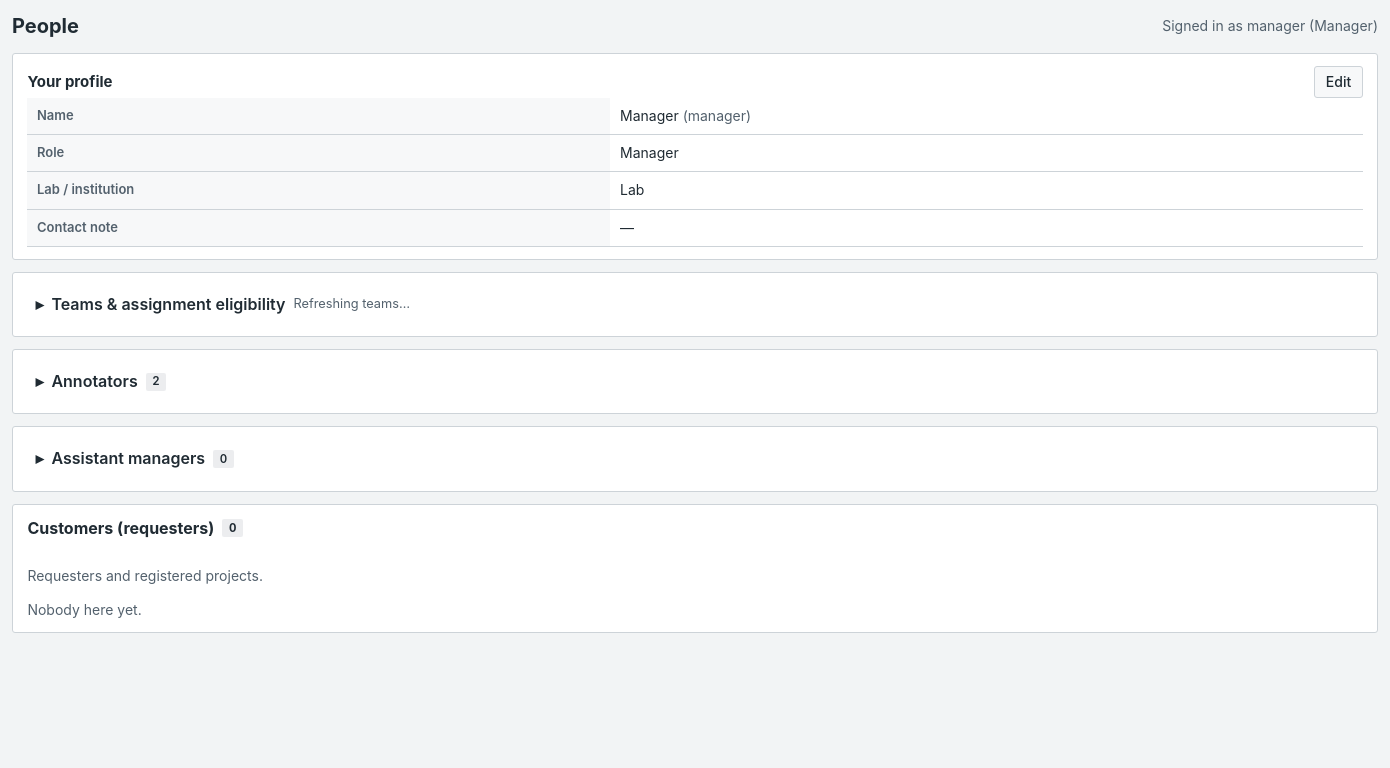
it: shows section summaries first and expands only the selected person
Expected: the button "Alice" is not shown
Click the button "▸ Annotators 2". click: (95, 381)
box: [27,362,1363,401]
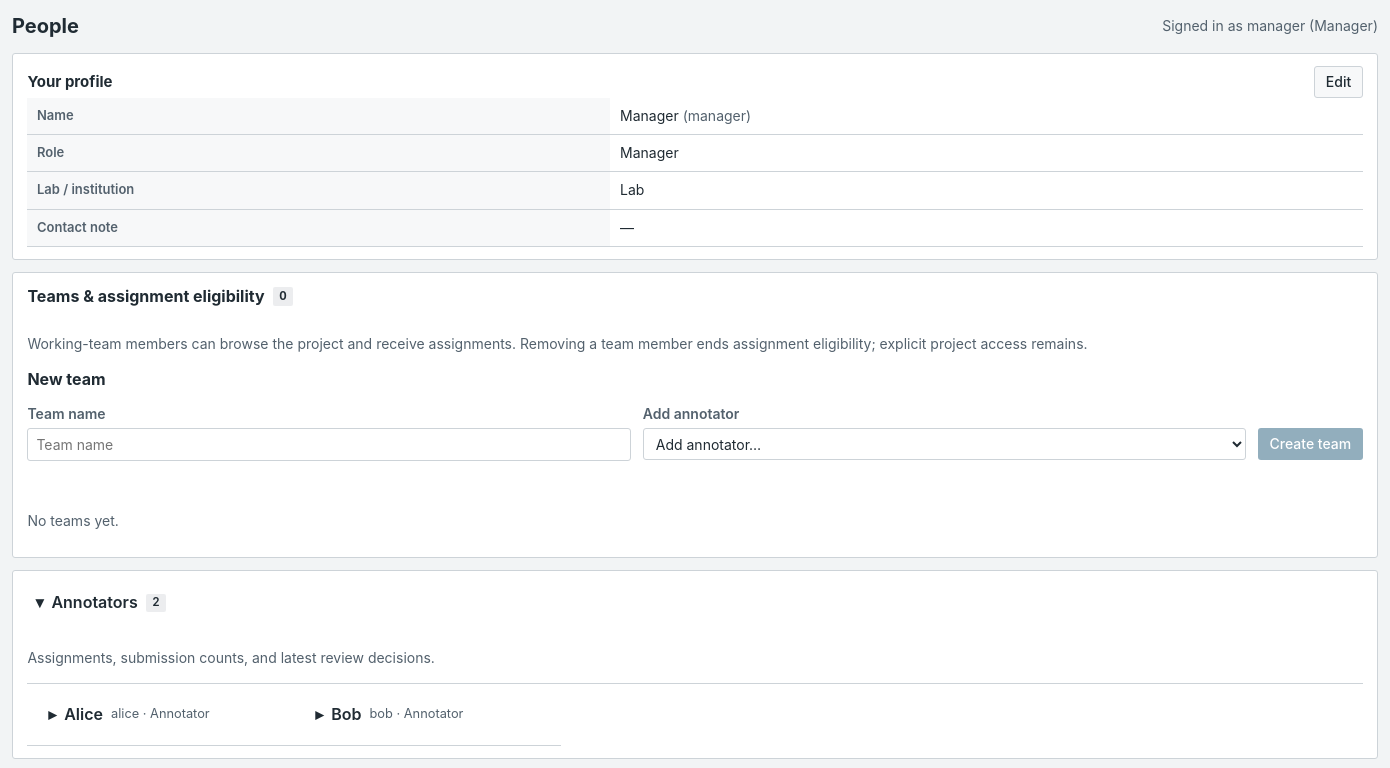
Expected: the text "Alice contact details" is not shown
Click the button "▸ Alice alice · Annotator". click: (161, 714)
box: [40,695,282,734]
(page scrolled)
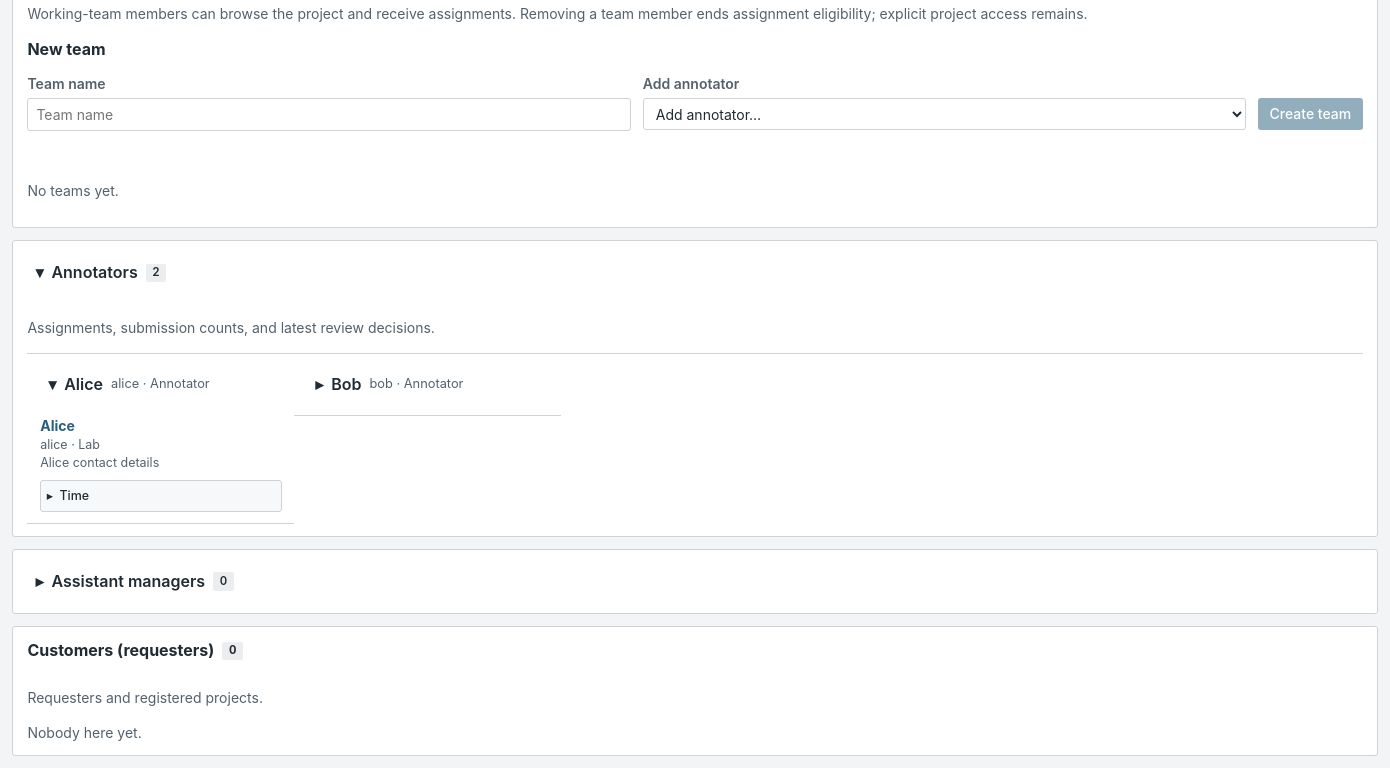
Expected: the heading "Customers (requesters) 0" is shown, [27,640,243,660]
Expected: the text "Alice contact details" is shown, [40,456,159,470]
